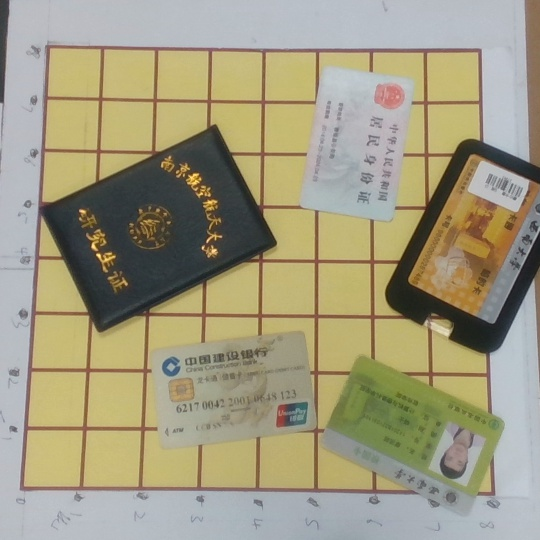card: (320, 355, 505, 517), (147, 330, 318, 450), (301, 66, 411, 224)
wallet: (43, 125, 279, 334), (384, 136, 540, 355)
